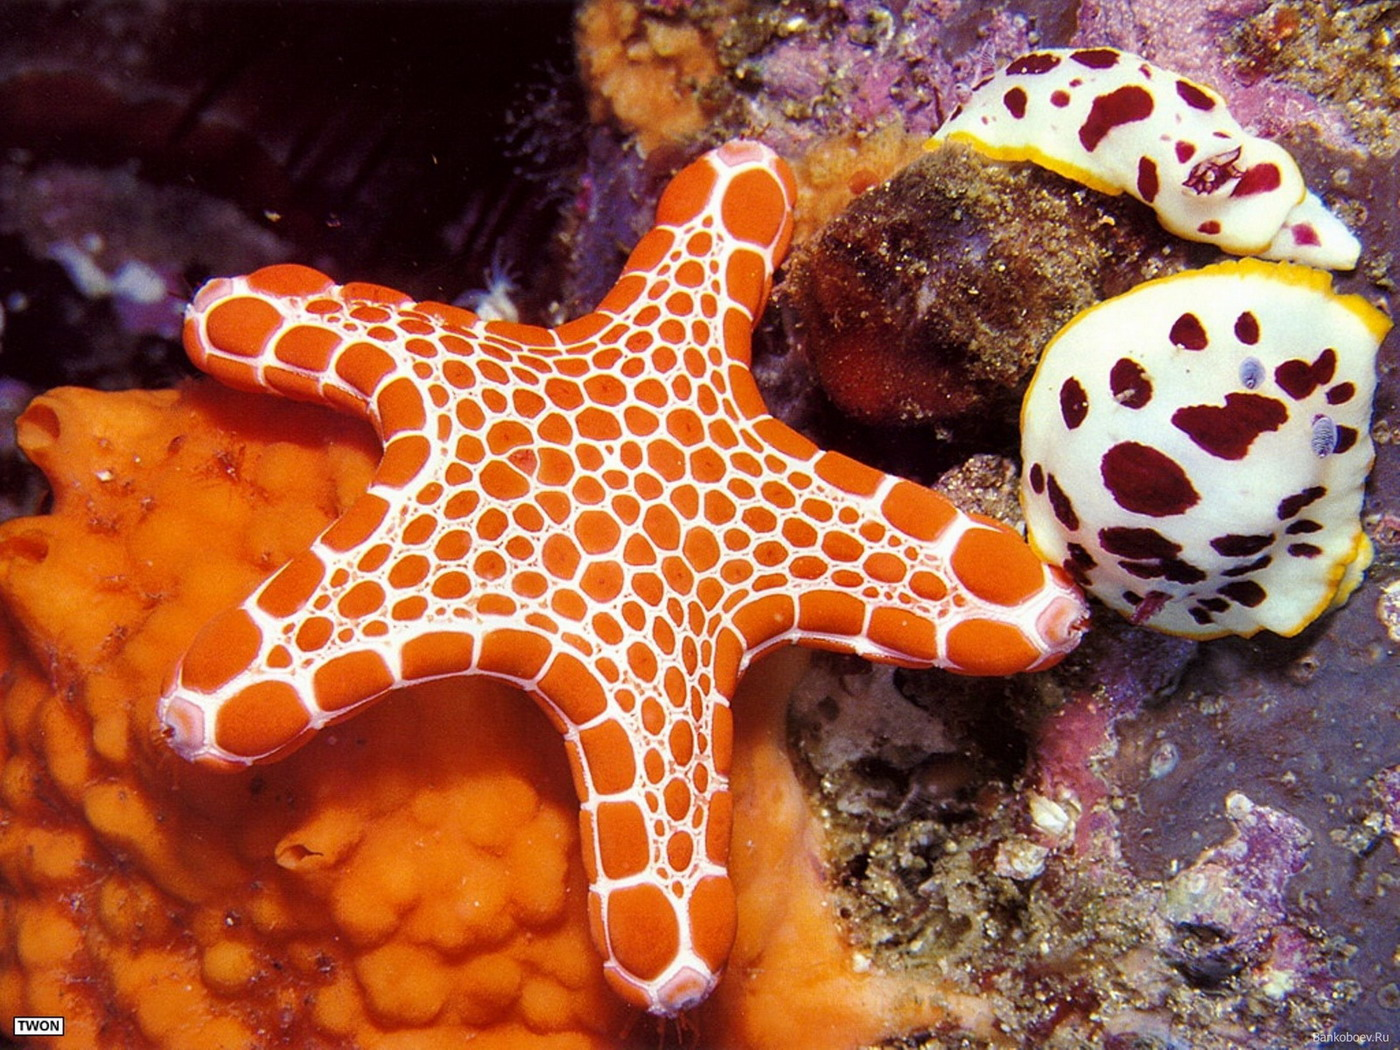starfish: (134, 137, 1112, 1024)
